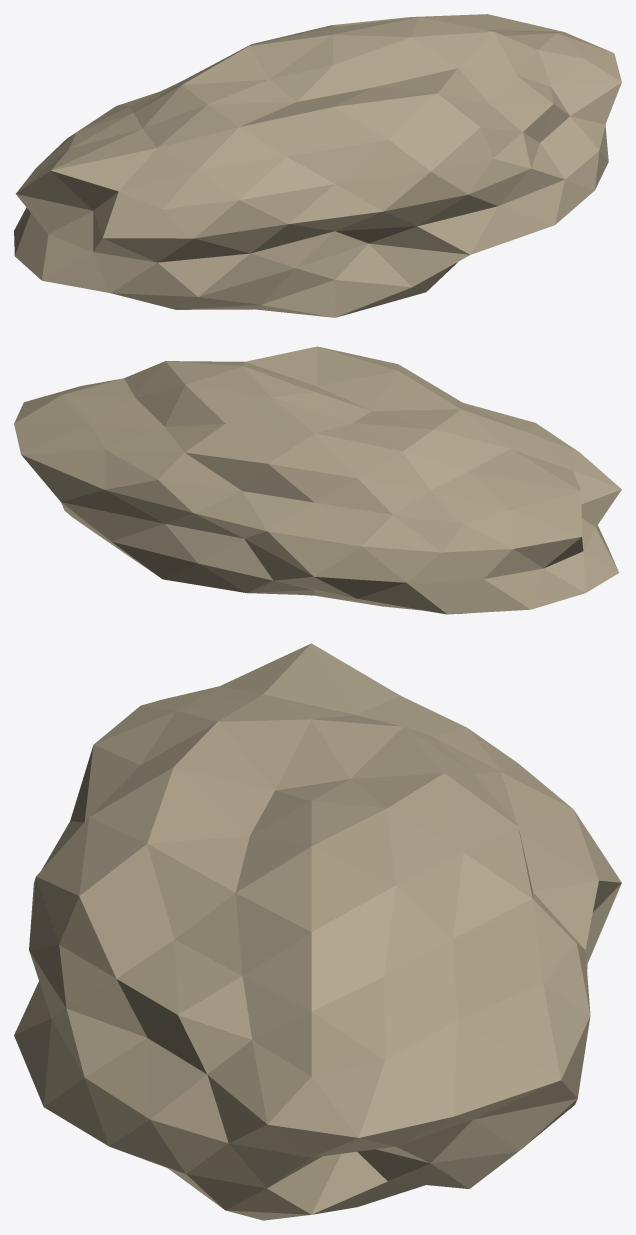
File: SM_SB_Kit_RockShelf.fbx
3 renders of one model, top to bottom at view 1: azimuth 30°, elevation 25°; view 2: azimuth 150°, elevation 25°; view 3: azimuth 270°, elevation 25°, orthographic. The views are drawn at different scales.
Parts seen in each view (by area): view 1: SM_SB_Kit_RockShelf; view 2: SM_SB_Kit_RockShelf; view 3: SM_SB_Kit_RockShelf.
Boxes of the visible parts, box(x1,y1,x2,y2) form: SM_SB_Kit_RockShelf: box(14, 14, 621, 317); SM_SB_Kit_RockShelf: box(14, 346, 621, 614); SM_SB_Kit_RockShelf: box(14, 643, 621, 1220).
Size of the model in its own units: 2776 by 1555 by 813.
